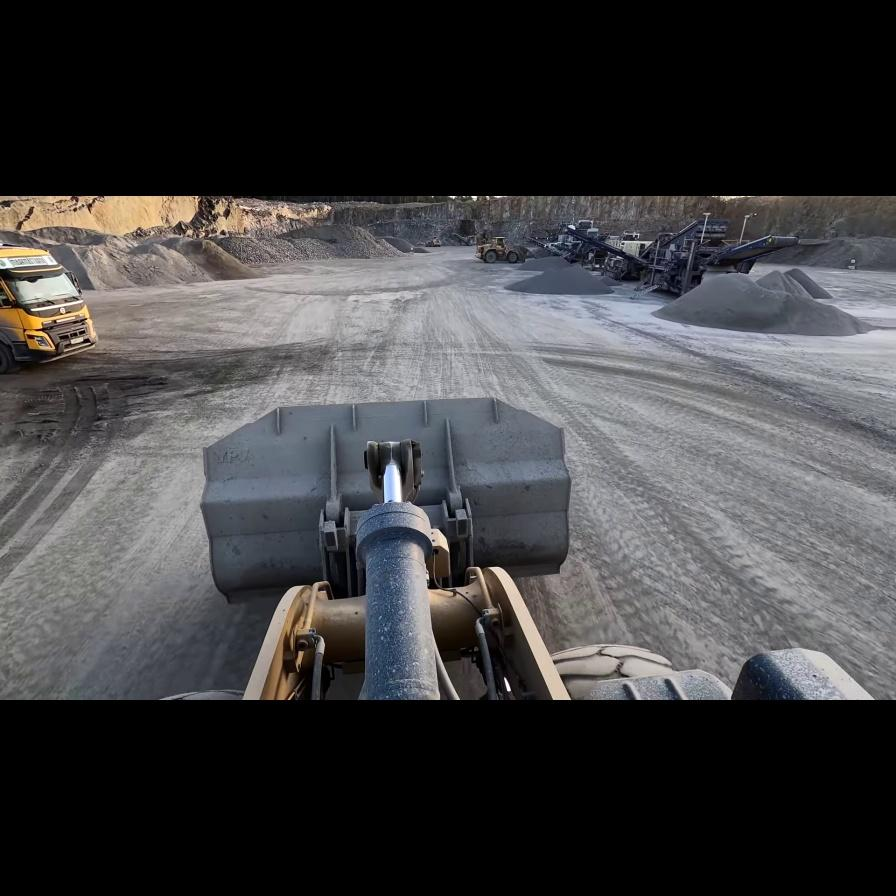anchor: (363, 439, 422, 504)
pile of gravel: (2, 221, 258, 292), (651, 271, 857, 335), (211, 220, 431, 269), (494, 264, 621, 298), (784, 235, 891, 270), (519, 248, 575, 275)
